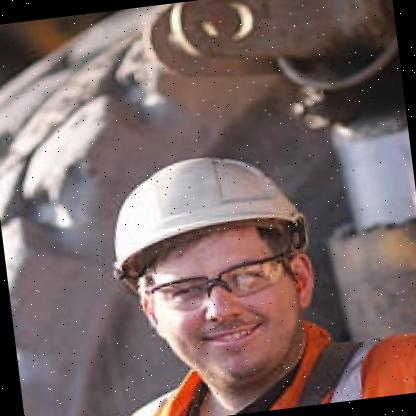capacete: (96, 145, 308, 277)
oculos: (142, 252, 289, 314)
